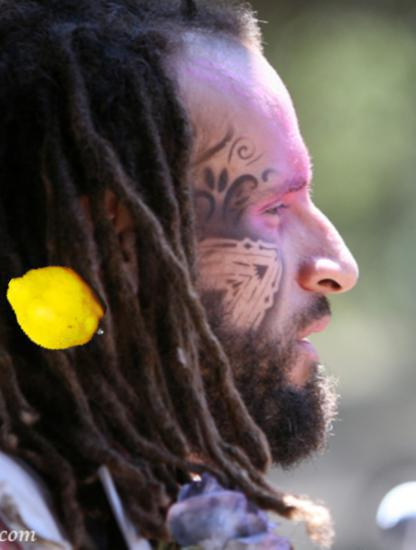Quince: (3, 255, 109, 361)
